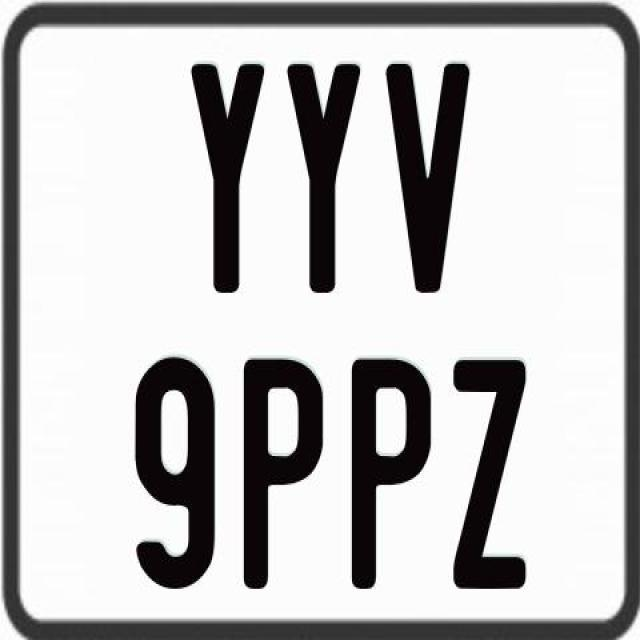9: (134, 354, 220, 590)
P: (240, 356, 326, 594), (350, 358, 434, 597)
V: (384, 62, 474, 293)
Y: (284, 63, 362, 294), (192, 62, 264, 301)
Z: (449, 361, 524, 594)
